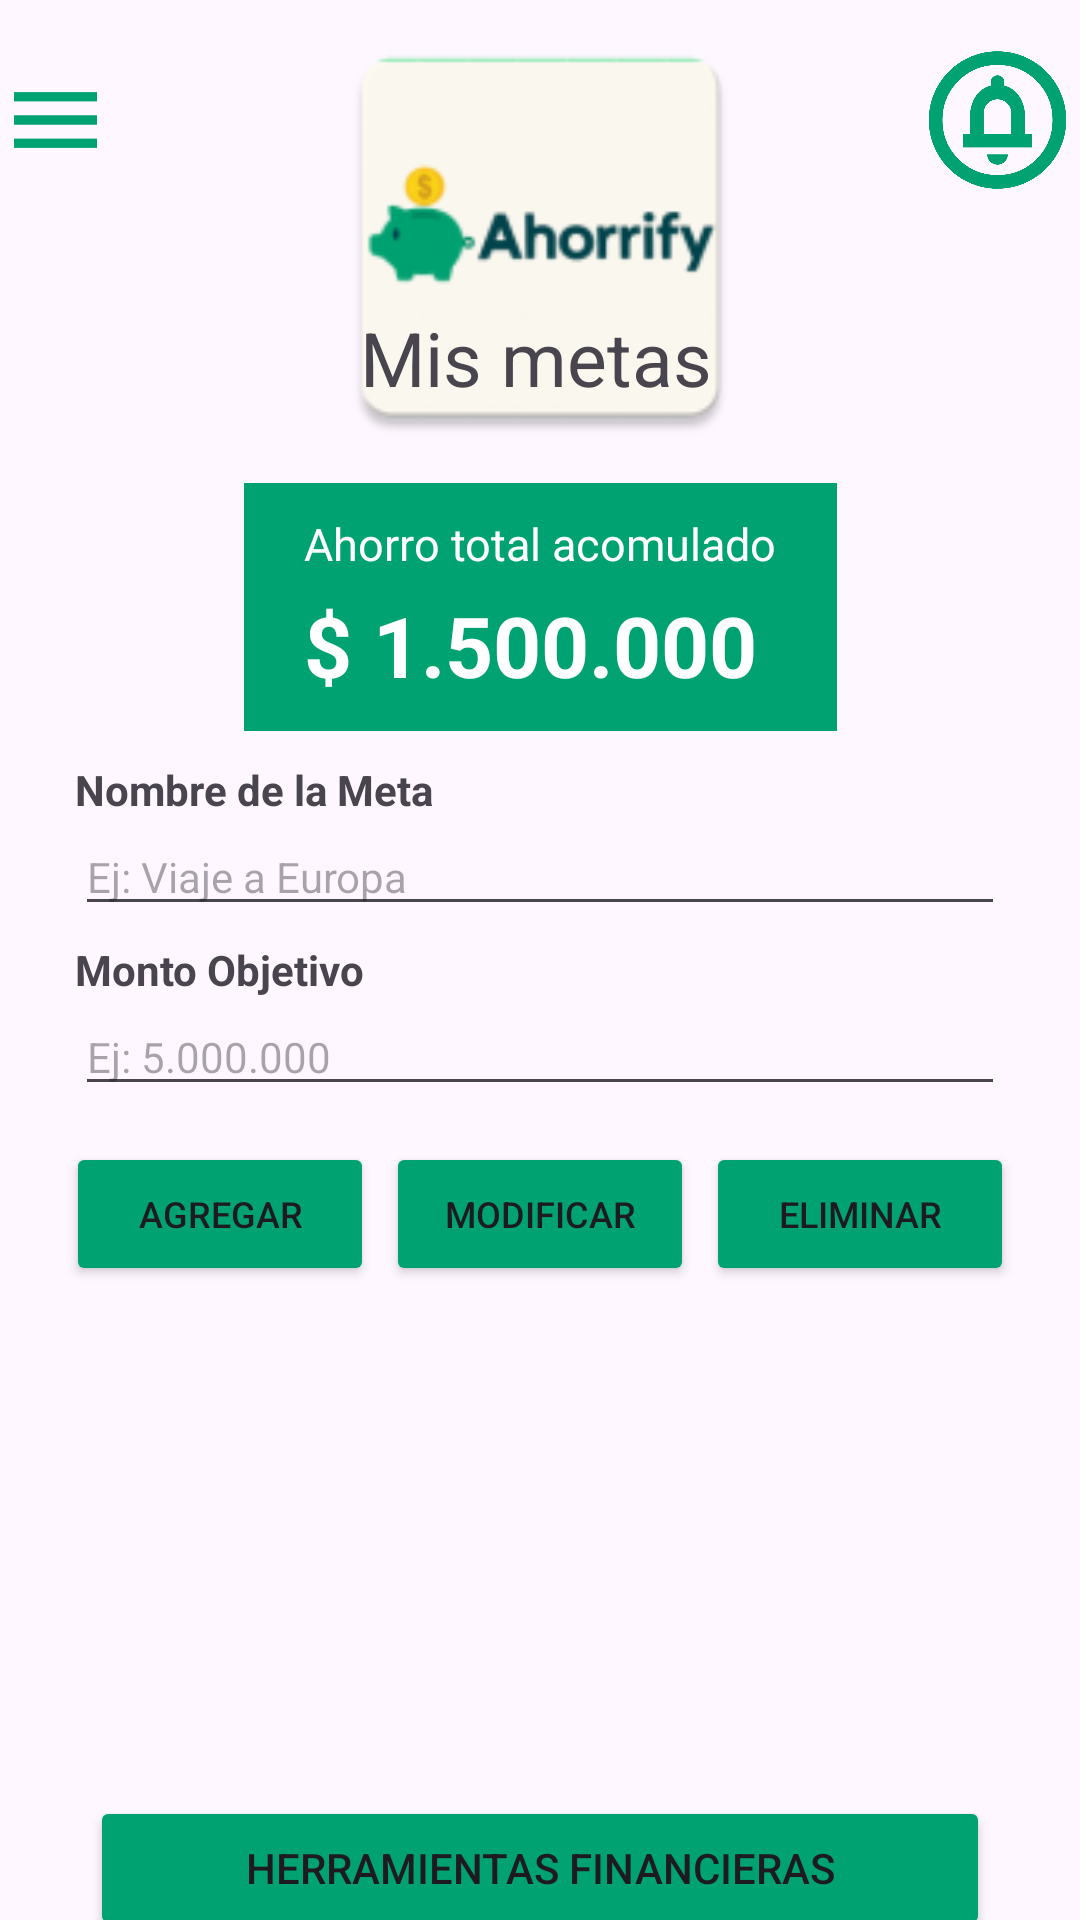

Icon click points for this 1080x1920 phone screenshot, format (x=x, y=y):
circle notifications: (x=997, y=120)
menu: (x=55, y=120)
